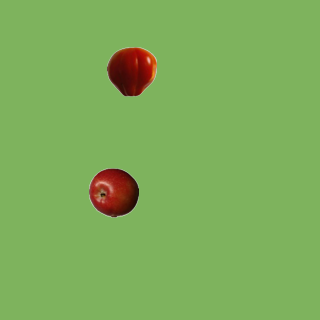Apple Braeburn: (88, 167, 138, 217)
Tomato 1: (106, 46, 156, 96)
